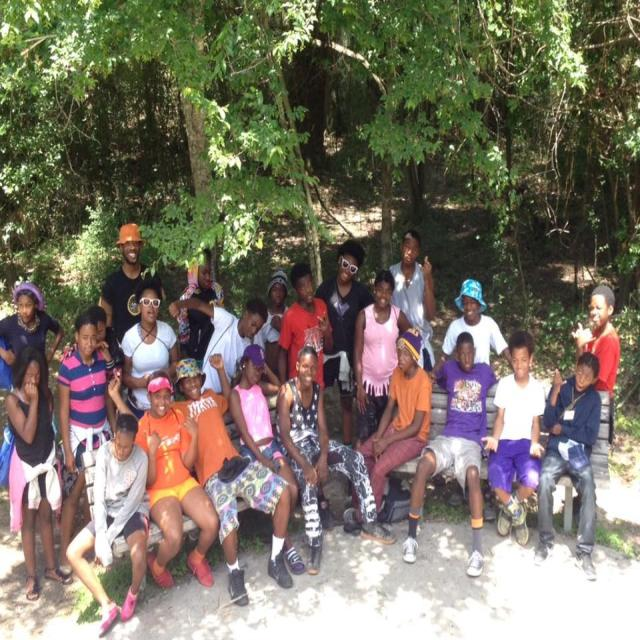body: (106, 351, 294, 609), (274, 344, 397, 577), (400, 330, 499, 578), (427, 277, 514, 523), (128, 368, 221, 588), (339, 327, 434, 533), (0, 343, 74, 603), (64, 412, 149, 638), (228, 343, 306, 578), (531, 350, 603, 582), (55, 312, 117, 578), (276, 260, 337, 513), (480, 329, 547, 547), (314, 238, 373, 449), (352, 268, 415, 451), (168, 295, 270, 397), (571, 284, 621, 483), (98, 221, 166, 360), (120, 279, 182, 422), (0, 281, 64, 388), (386, 228, 438, 342), (177, 246, 220, 364), (252, 270, 294, 388), (84, 304, 126, 372)
